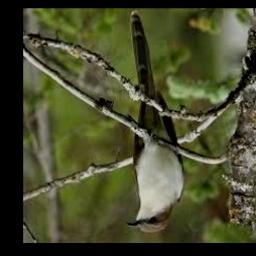Cuckoo: (130, 12, 185, 233)
